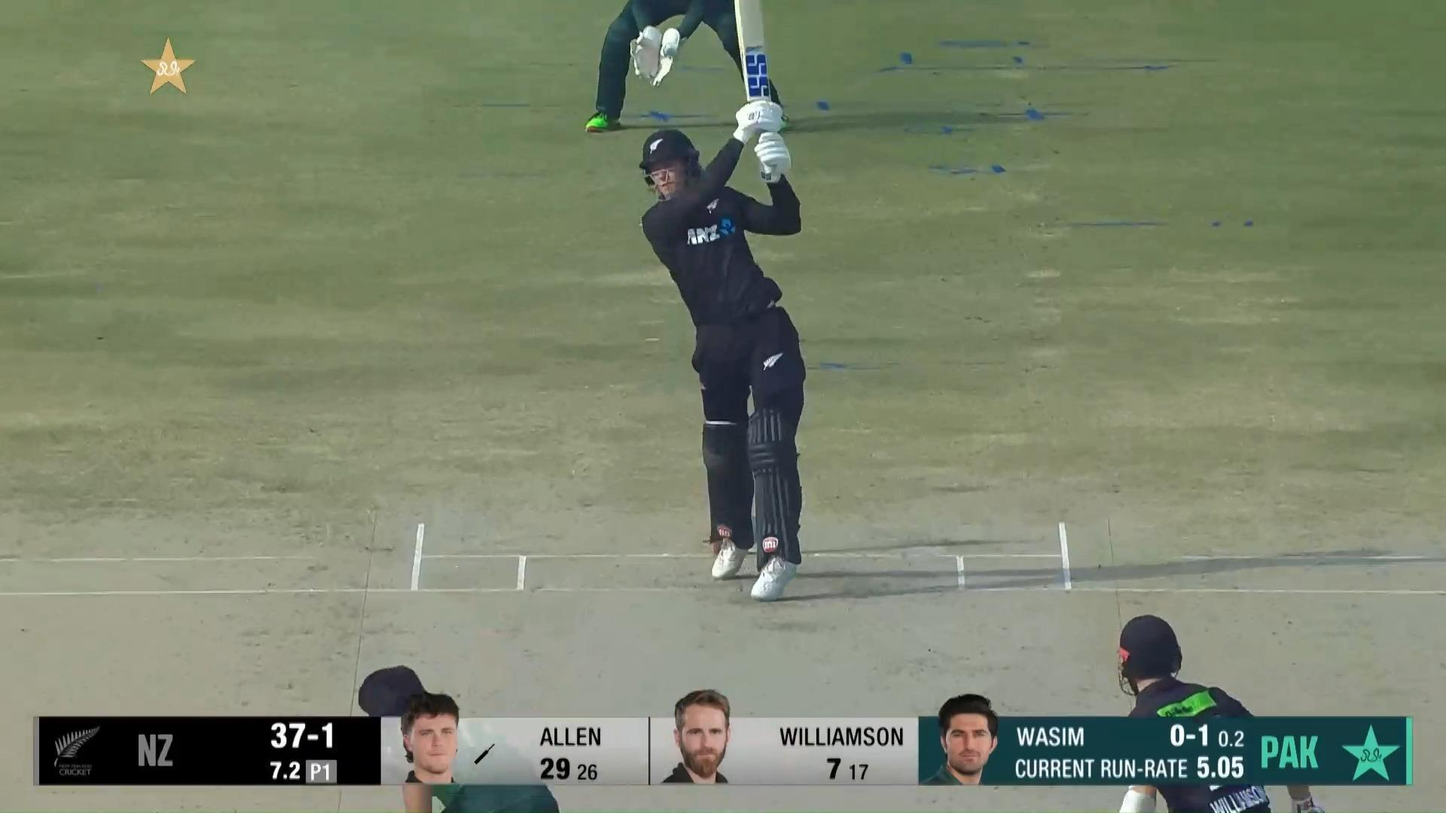BM 1: (640, 0, 806, 602)
BO: (355, 660, 563, 813)
